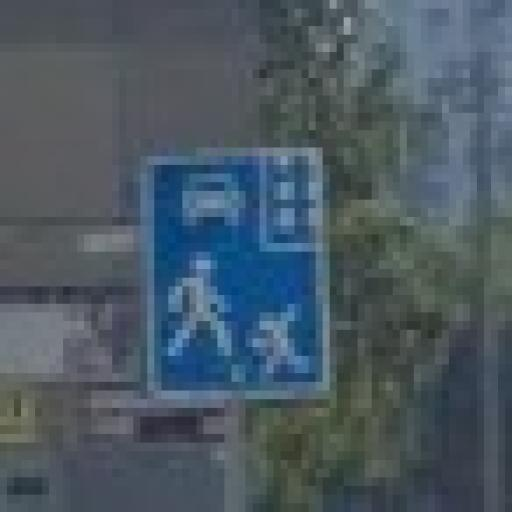traffic_sign: (141, 148, 338, 409)
